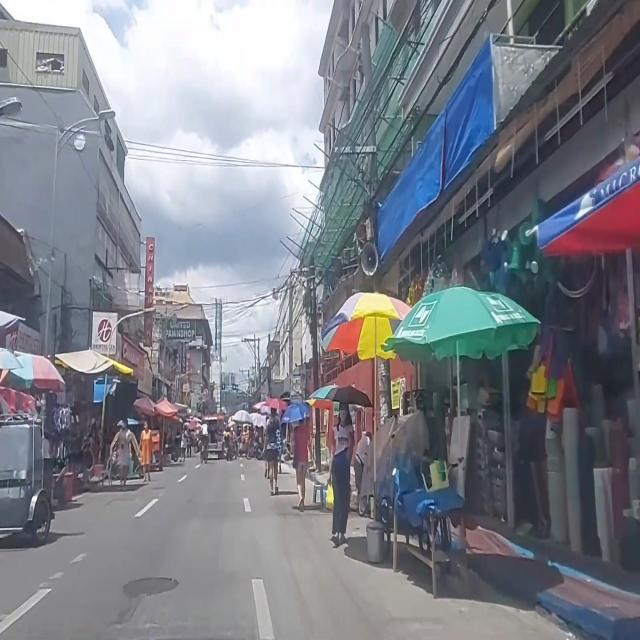bike: (201, 422, 209, 462)
jeepney: (202, 415, 224, 458)
motorcycle: (224, 424, 232, 462)
tricycle: (0, 414, 52, 546), (150, 428, 162, 471)
